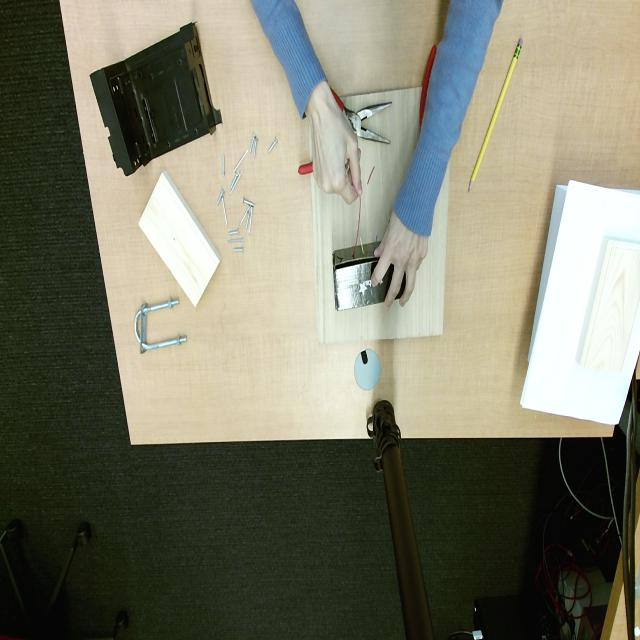pliers: (331, 90, 391, 144), (299, 162, 314, 176)
